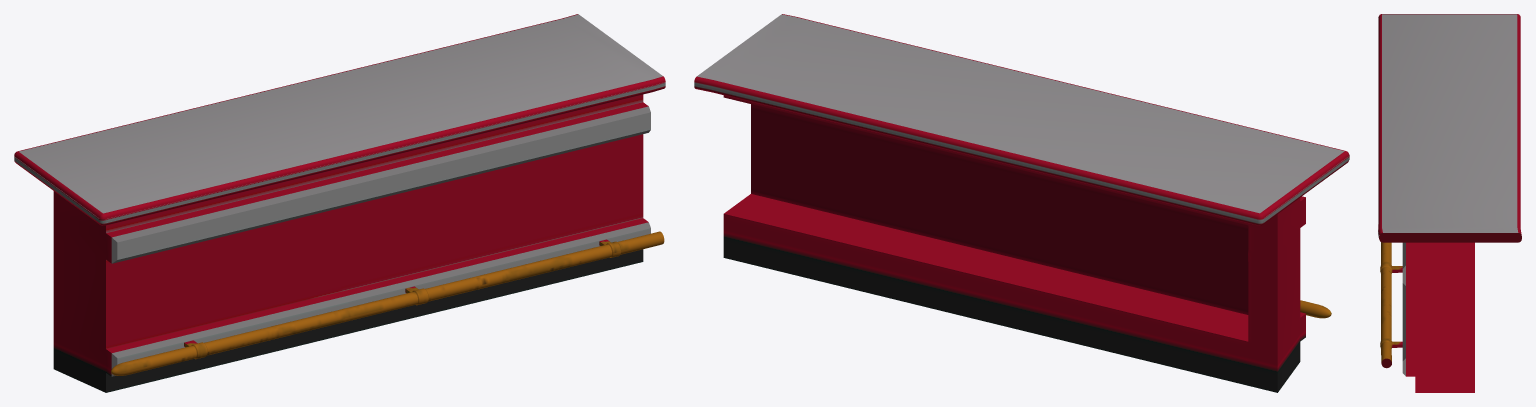
File: Diner-counter.fbx
3 renders of one model, left to right at view 1: azimuth 30°, elevation 25°; view 2: azimuth 150°, elevation 25°; view 3: azimuth 270°, elevation 25°, orthographic. The views are drawn at different scales.
Parts seen in each view (by area): view 1: Null_1; view 2: Null_1; view 3: Null_1.
Boxes of the visible parts, left/top/right/bottom form: Null_1: left=14, top=14, right=665, bottom=392; Null_1: left=694, top=14, right=1349, bottom=392; Null_1: left=1378, top=14, right=1521, bottom=392.
Size of the model in its own units: 293 by 99.31 by 80.79.
2 materials, 1 textured.
